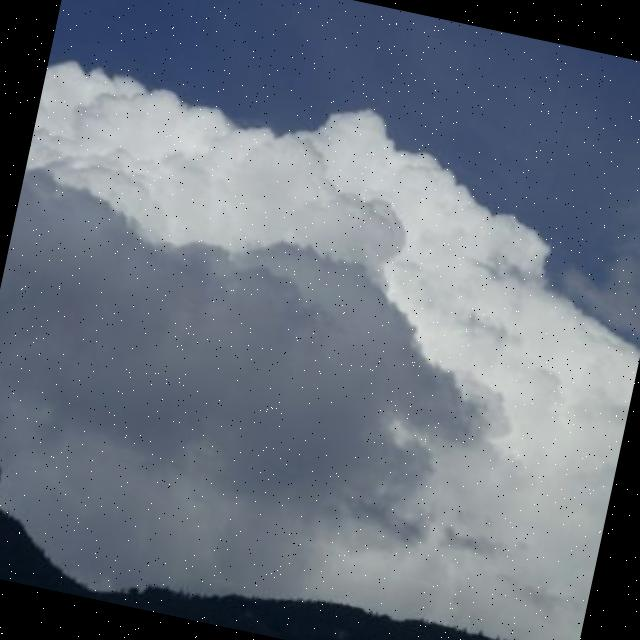Cu: (1, 1, 640, 535)
